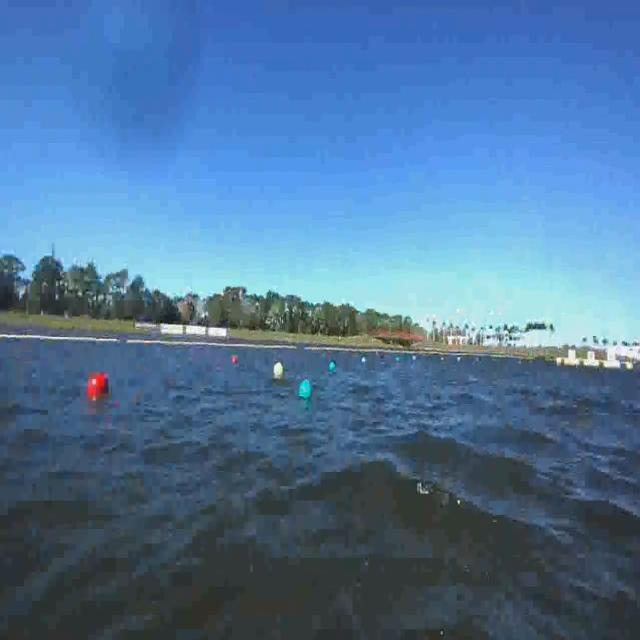green-buoy: (300, 379, 314, 399), (329, 361, 335, 371)
red-buoy: (88, 371, 110, 397), (230, 352, 237, 365)
yellow-buoy: (274, 361, 285, 377)
